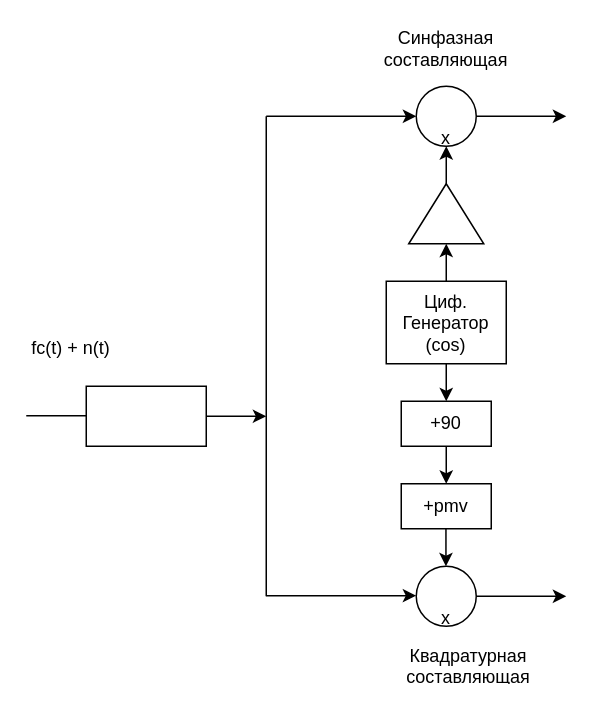
This 605x711 diagram has some shape labels left out. Each missing label, with the centre of its shape:
+amv: point (445, 213)
АЦП (fs): point (145, 415)
